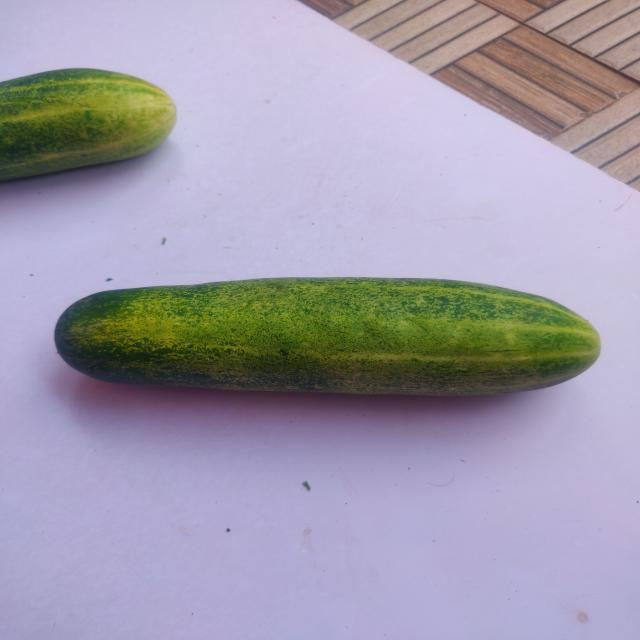Cucumber: (35, 264, 606, 418)
